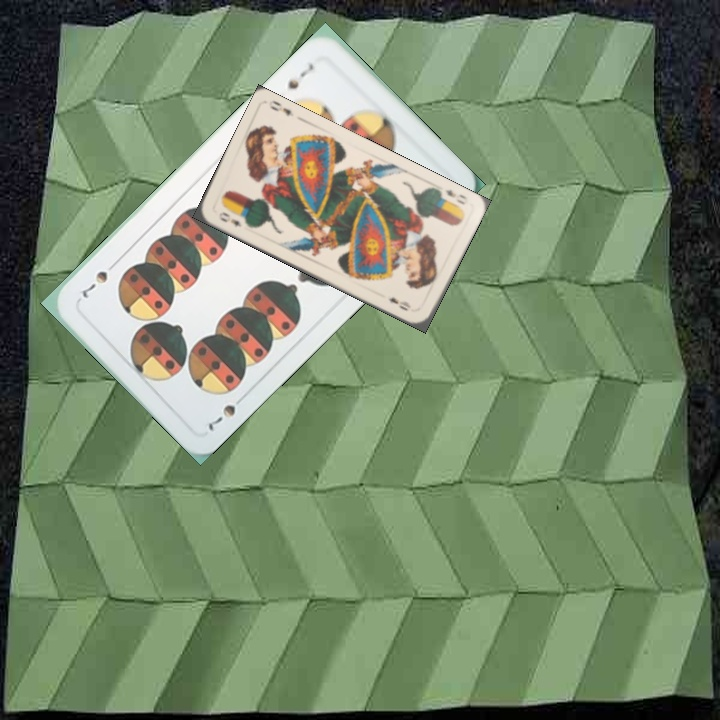EO: (441, 185, 470, 207), (214, 208, 244, 229)
S7: (204, 390, 249, 434), (283, 59, 317, 92)
